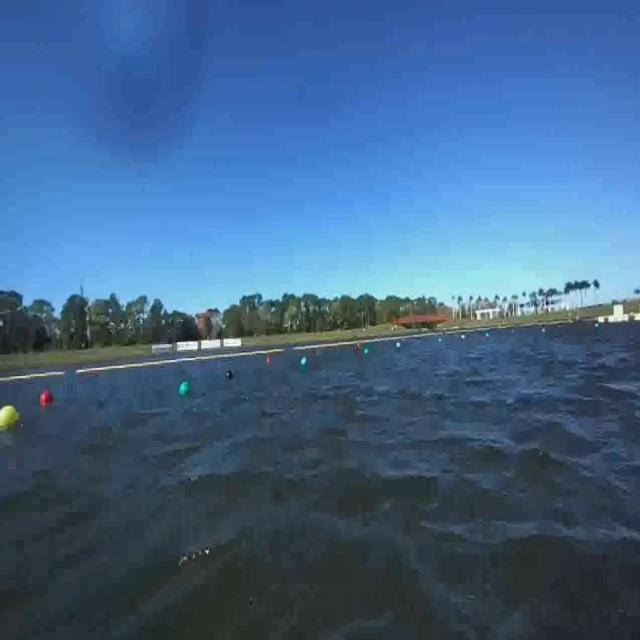green-buoy: (181, 378, 193, 394)
red-buoy: (41, 390, 53, 407)
yellow-buoy: (0, 406, 20, 430)
